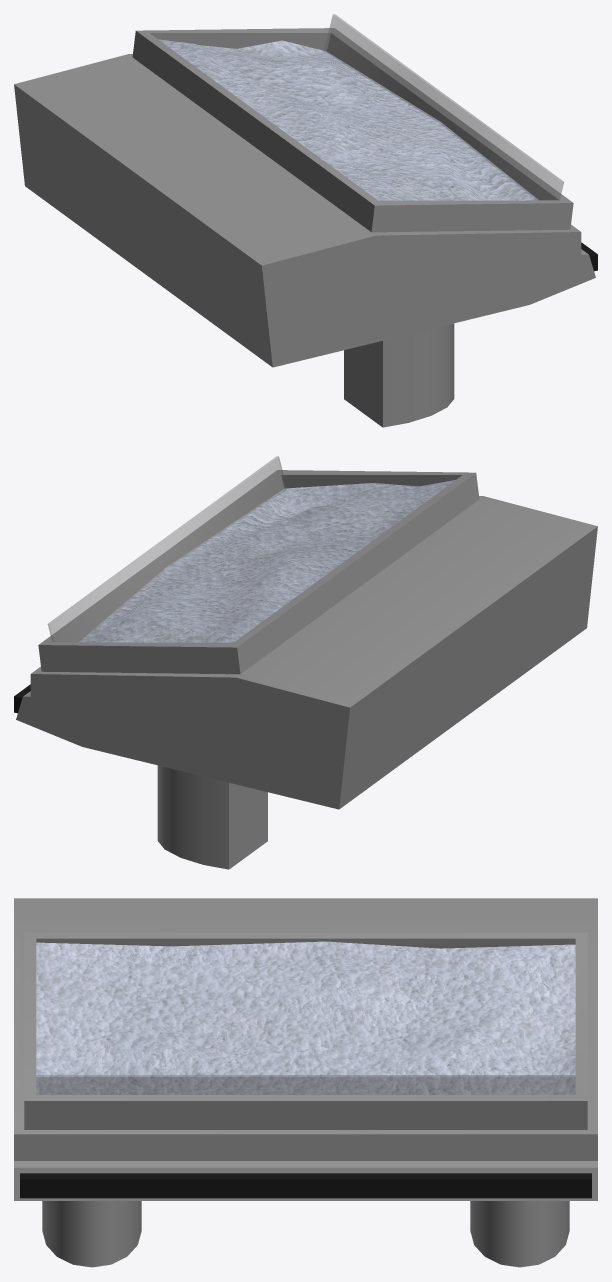
Rendered from ray_store_fish.FBX.
The picture shows the model from 3 angles, top to bottom: view 1: azimuth 30°, elevation 25°; view 2: azimuth 150°, elevation 25°; view 3: azimuth 270°, elevation 25°; orthographic projection. The views are drawn at different scales.
Visible parts, largest first — view 1: ray_store_fish_001; view 2: ray_store_fish_001; view 3: ray_store_fish_001.
Boxes of the visible parts, x1,y1,x2,y2 form: ray_store_fish_001: (14,14,597,427); ray_store_fish_001: (14,456,597,869); ray_store_fish_001: (14,898,597,1267).
Size of the model in its own units: 1.55 by 1.02 by 1.97.
